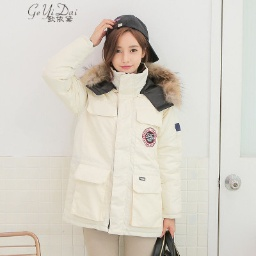face: (97, 27, 155, 77)
